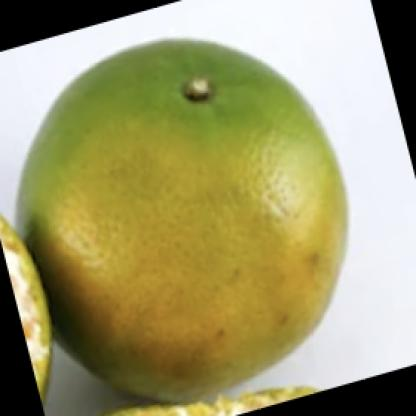fresh: (17, 39, 346, 407)
